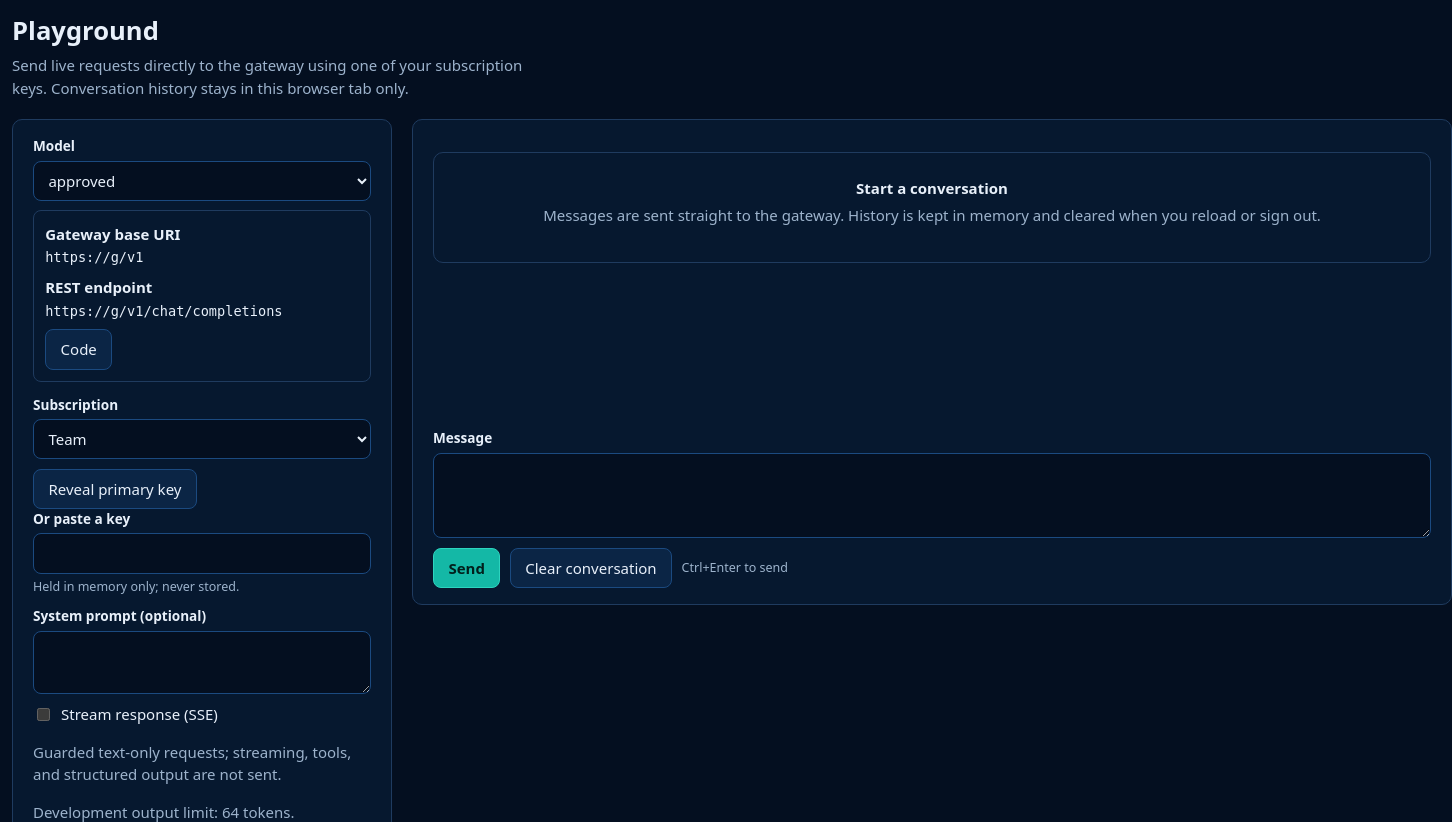
Scenario: outcomeView › Guarded development catalog and playground › sends bounded non-streaming chat and never offers placeholders
Expected: the text "Guarded text-only requests" is shown, [33,742,351,784]
Type "test-key" into the password field labelled "Or paste a key" at (202, 554), box [33,534,371,574]
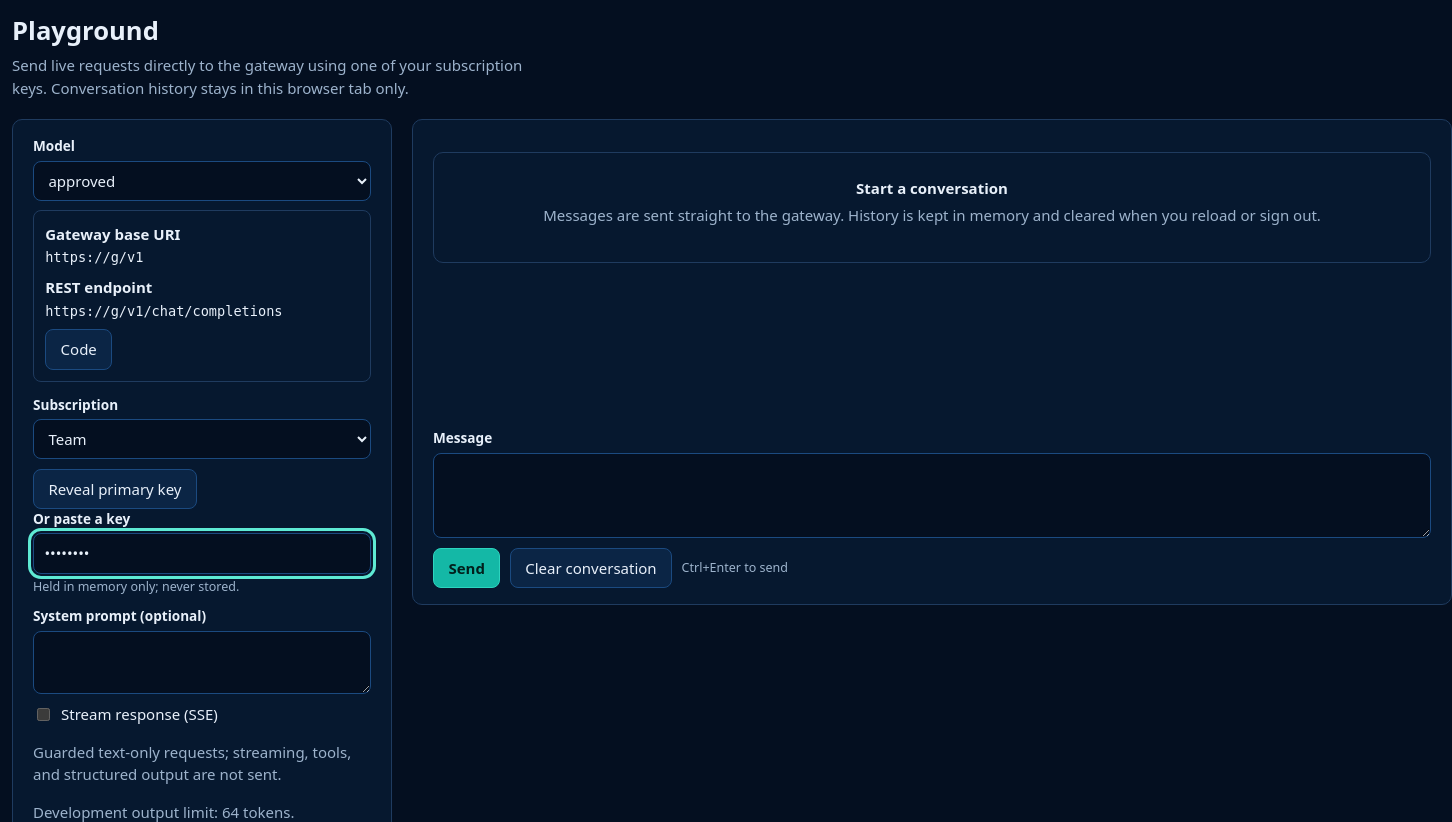
Type "Reply OK." into the text box labelled "Message" at (932, 496), box [433,453,1431,538]
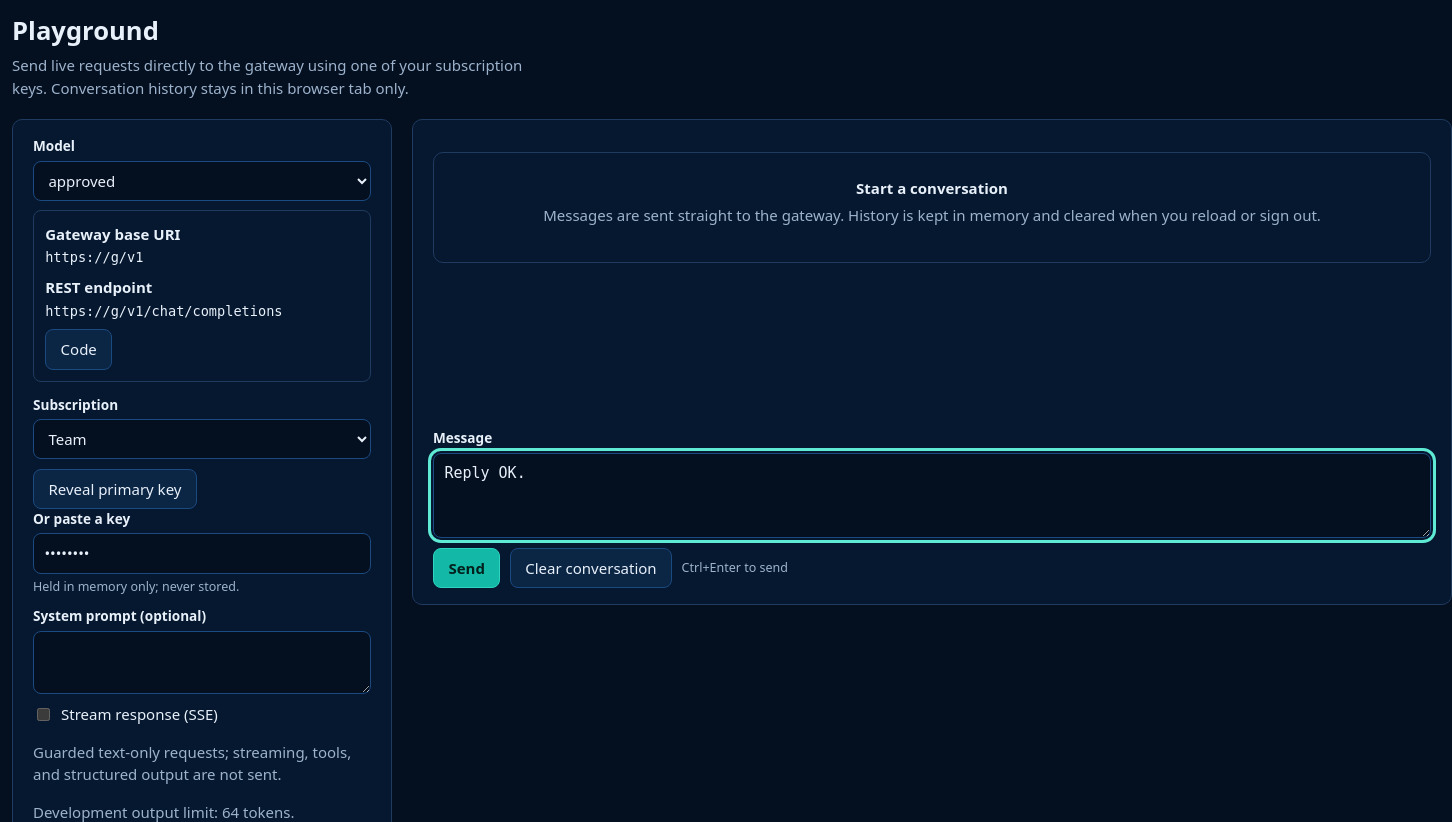
Click the button "Send" at (467, 568), box [433,548,500,588]
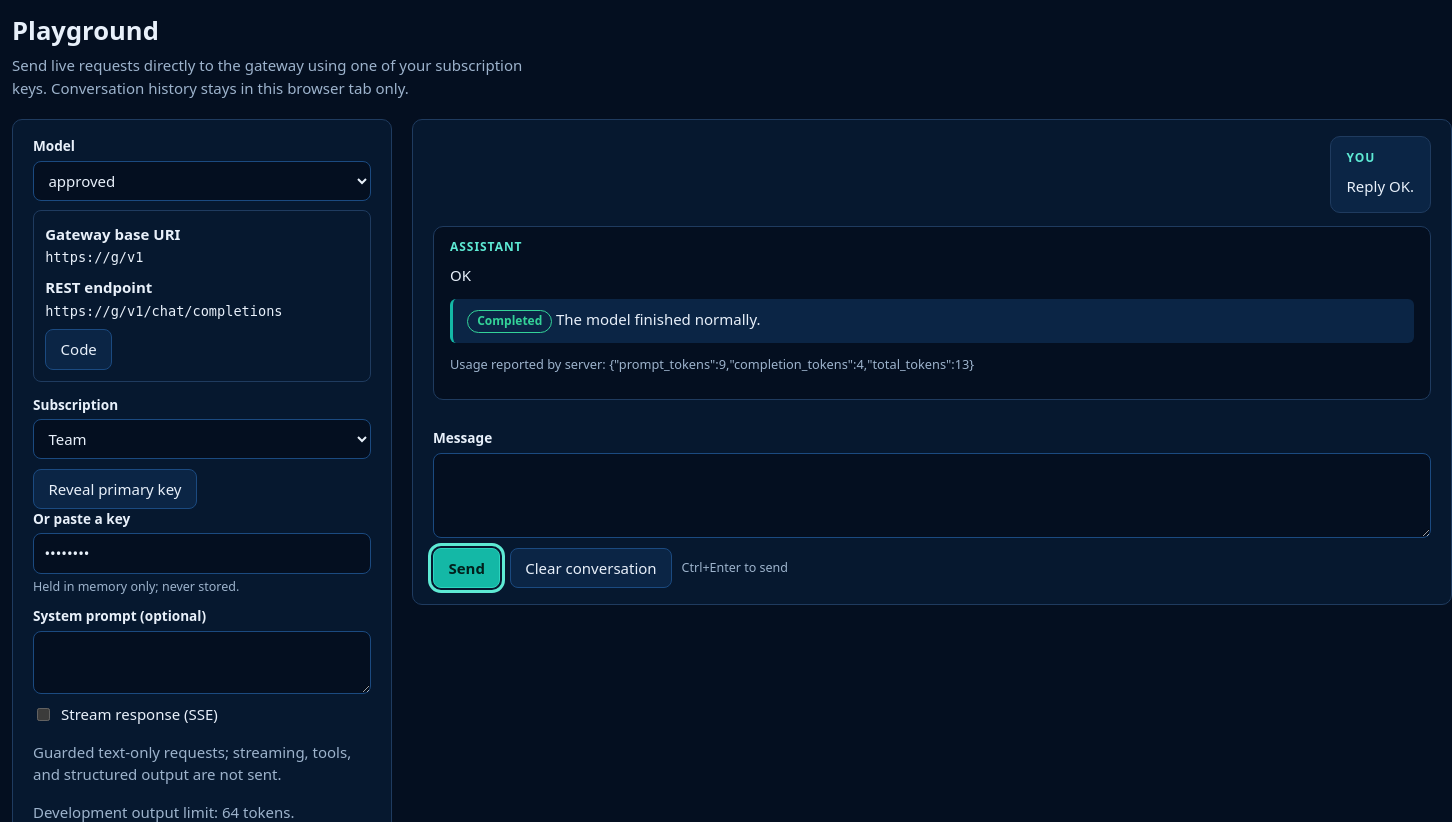
Expected: the text "https://g/v1/chat/completions" is shown, [45,303,282,319]
Expected: the text "Completed" is shown, [467,310,552,333]
